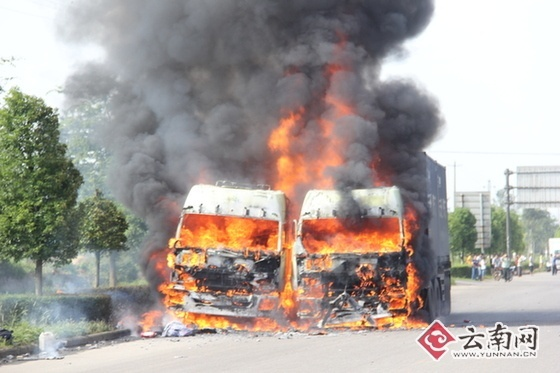fire: (150, 90, 426, 338)
